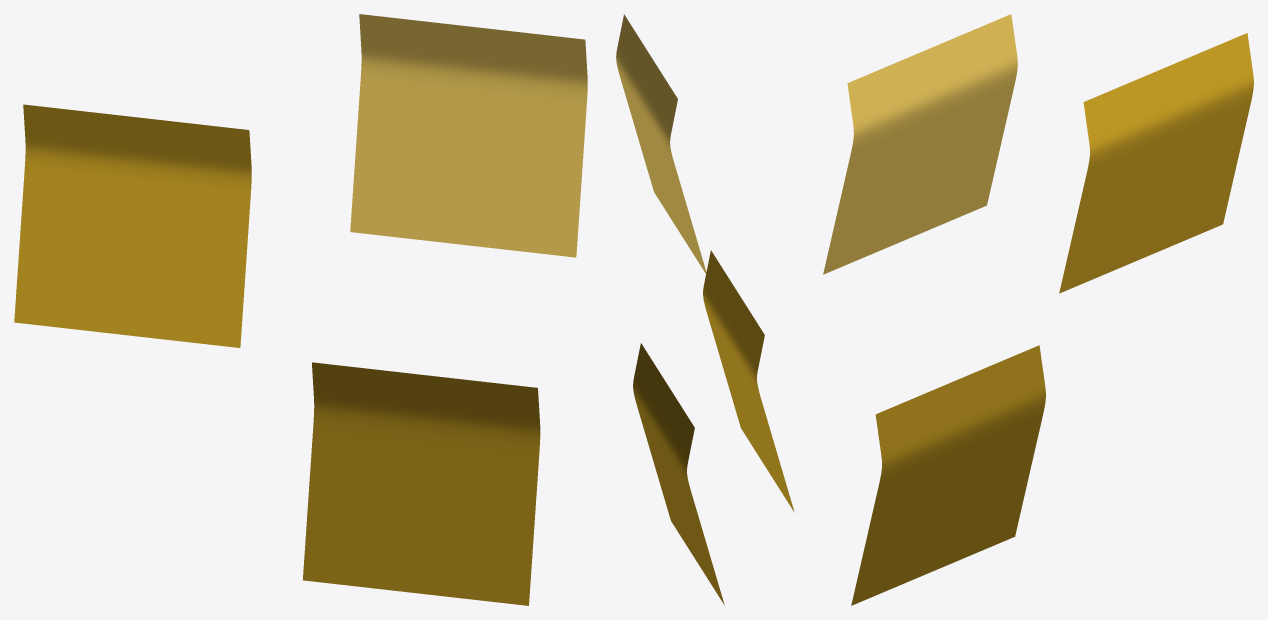
File: Stickies.glb
The picture shows the model from 3 angles, left to right: view 1: azimuth 30°, elevation 25°; view 2: azimuth 150°, elevation 25°; view 3: azimuth 270°, elevation 25°; orthographic projection. The views are drawn at different scales.
Parts seen in each view (by area): view 1: pPlane4, pPlane3, pPlane5; view 2: pPlane4, pPlane5, pPlane3; view 3: pPlane4, pPlane3, pPlane5.
Boxes of the visible parts, box(x1,y1,x2,y2) form: pPlane4: box(350, 14, 587, 257); pPlane3: box(14, 104, 251, 347); pPlane5: box(303, 362, 540, 605); pPlane4: box(616, 14, 706, 273); pPlane5: box(633, 343, 724, 605); pPlane3: box(703, 250, 794, 512); pPlane4: box(823, 14, 1017, 274); pPlane3: box(1059, 33, 1253, 293); pPlane5: box(851, 345, 1045, 605).
Bounding box in the file's own units: 37.55 × 51.39 × 36.55.
